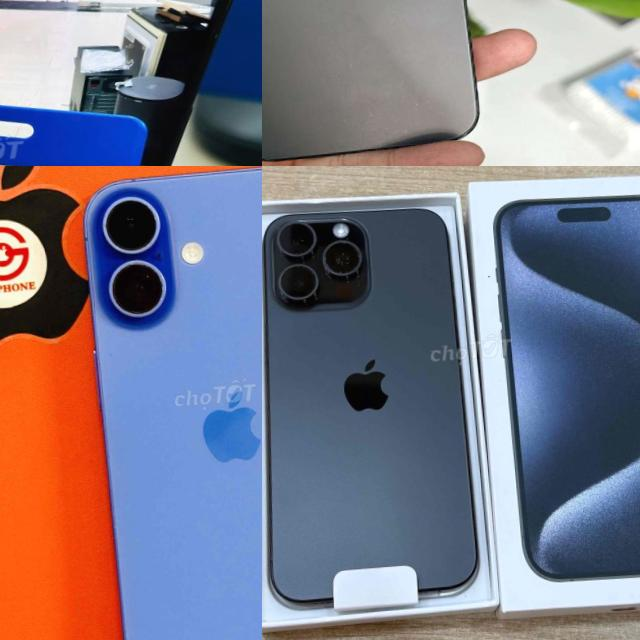gen_14: (262, 0, 490, 166)
gen_15: (262, 166, 486, 620), (0, 0, 262, 166)
gen_16: (67, 166, 262, 640)
